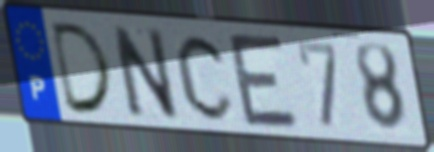7: (293, 39, 341, 132)
8: (354, 40, 407, 138)
C: (173, 30, 237, 124)
D: (48, 20, 117, 117)
E: (225, 30, 303, 132)
N: (107, 22, 182, 121)
